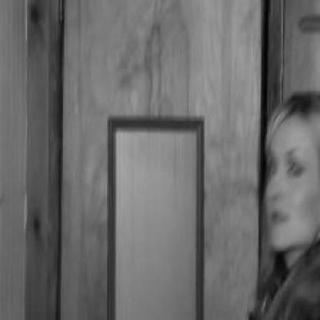other: (119, 144, 185, 312)
